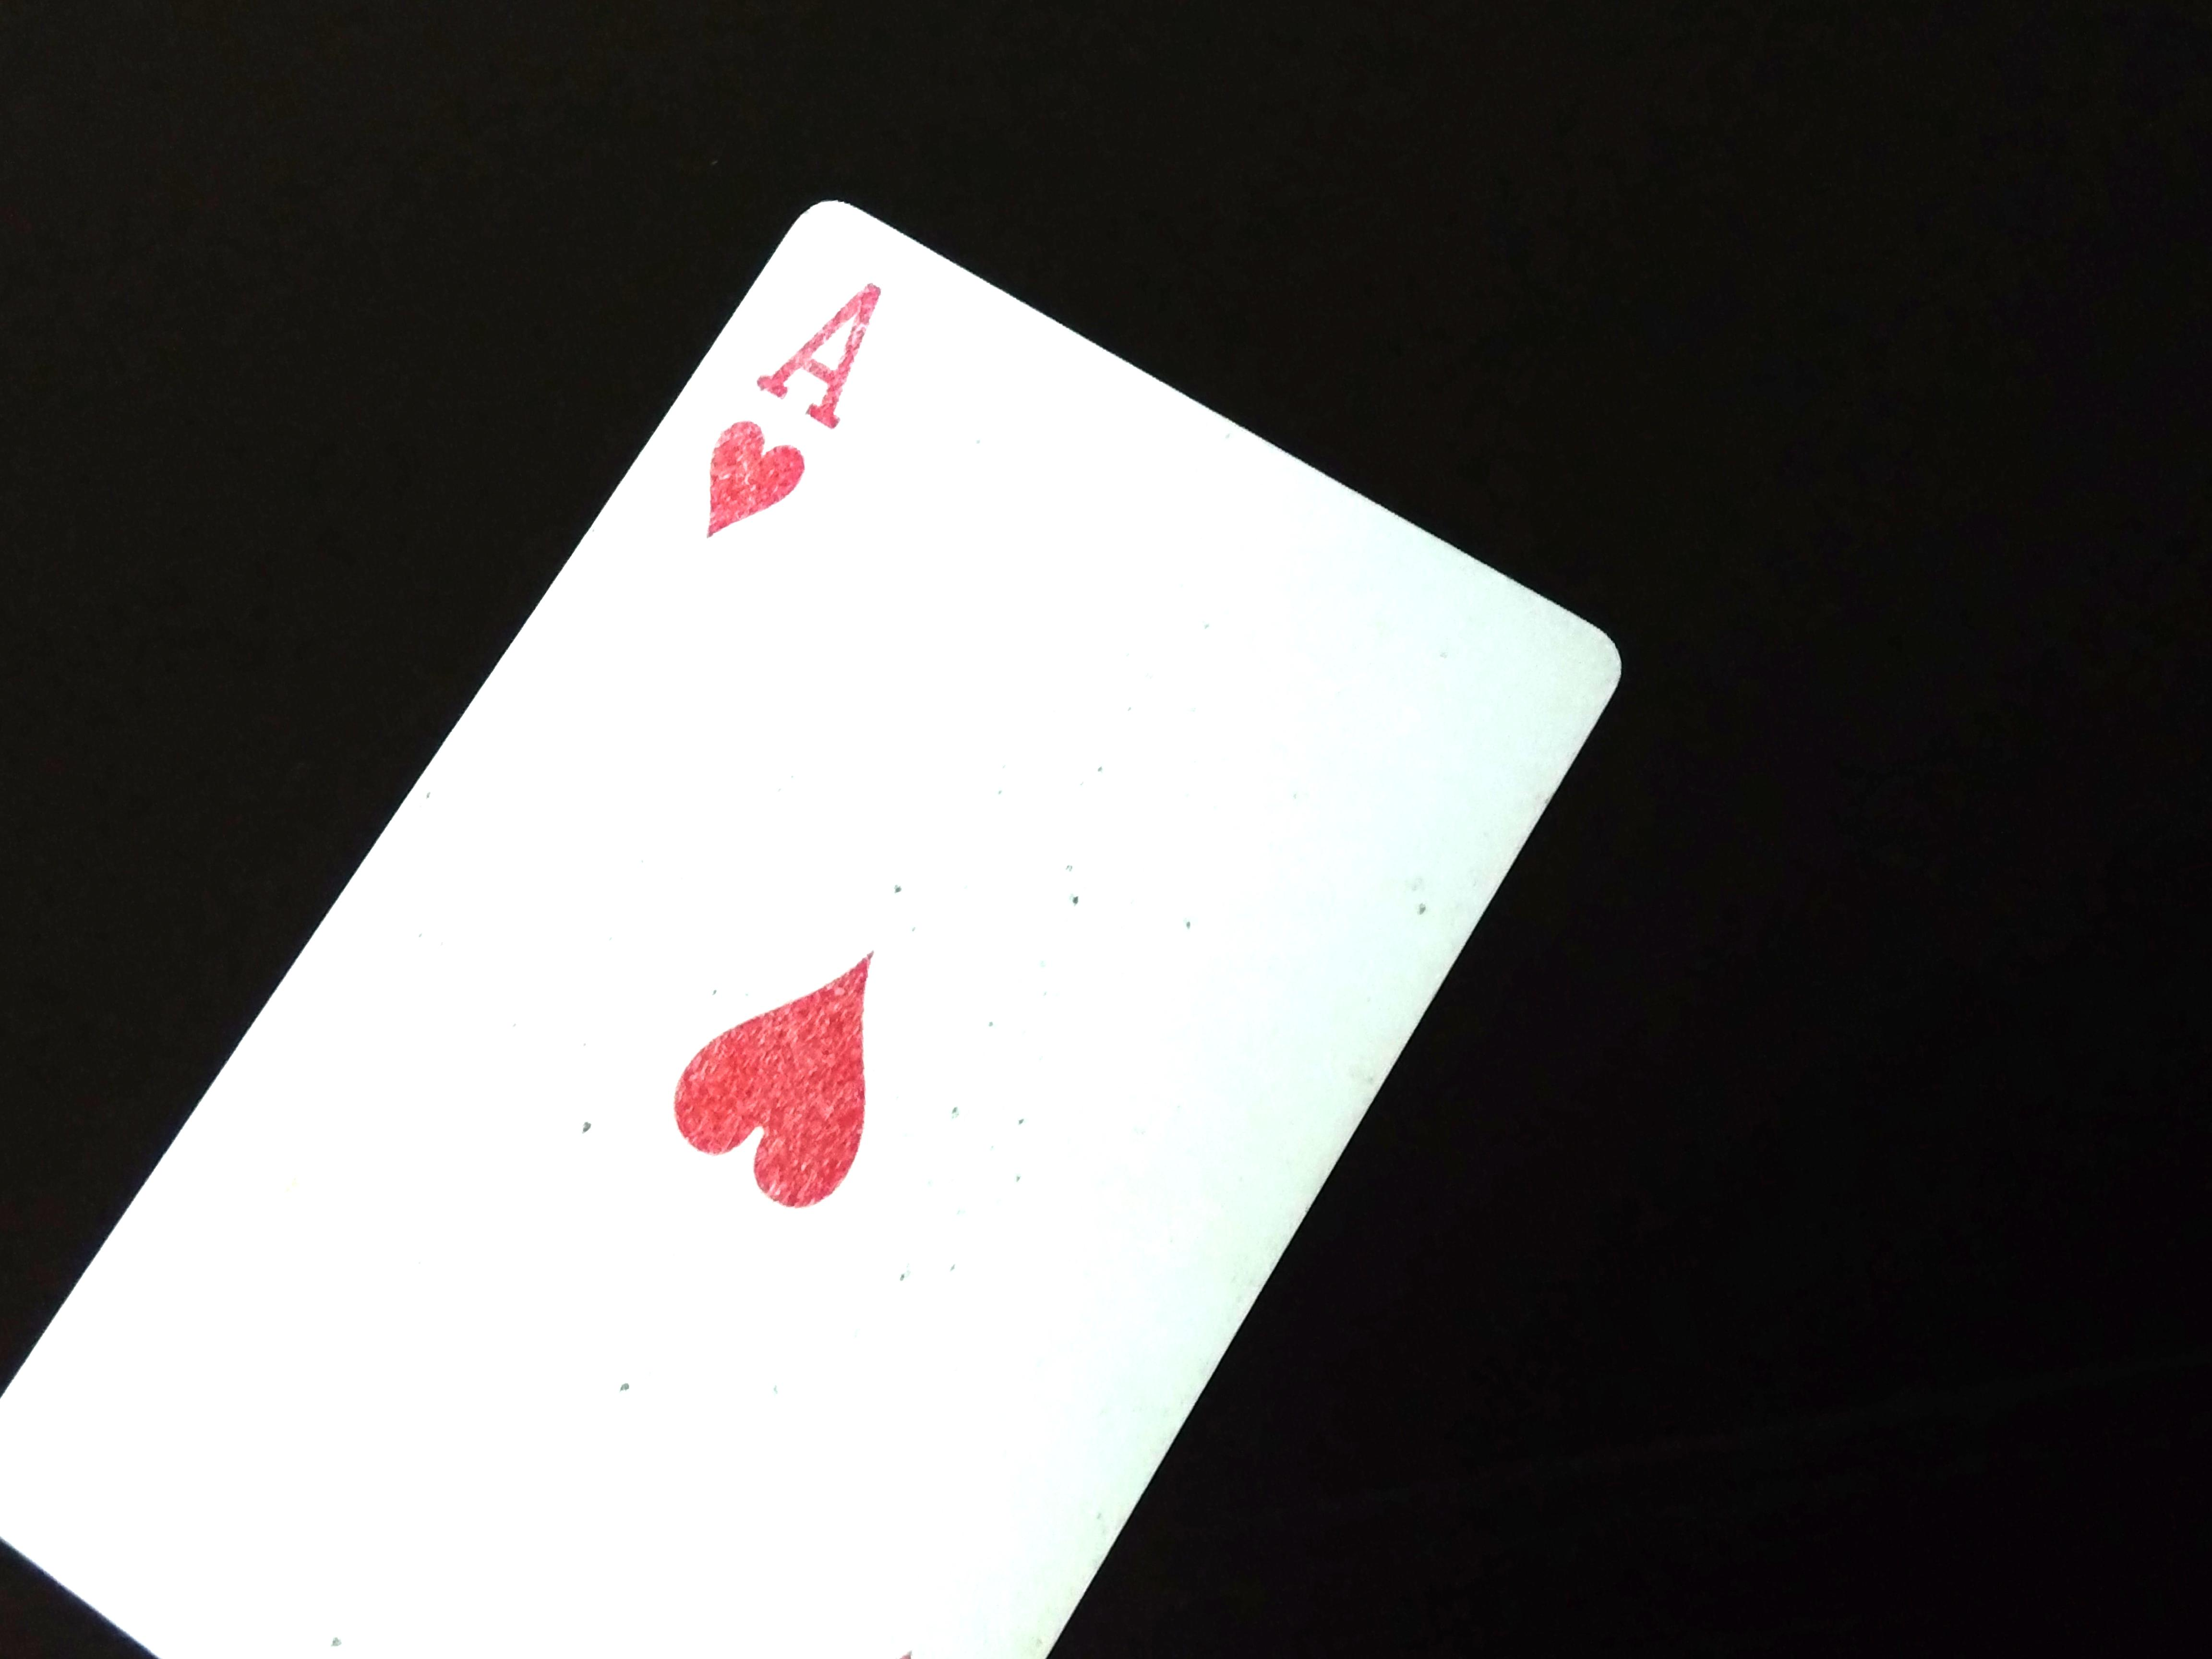AH: (686, 277, 885, 573)
